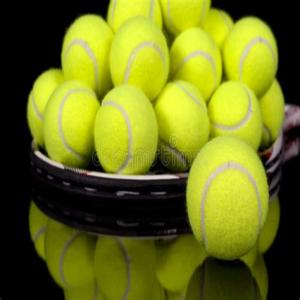Tennis: (185, 140, 268, 268), (96, 82, 158, 178), (152, 75, 210, 169), (108, 17, 168, 107), (44, 79, 102, 170), (222, 12, 280, 100), (205, 77, 266, 154), (167, 25, 223, 93)
